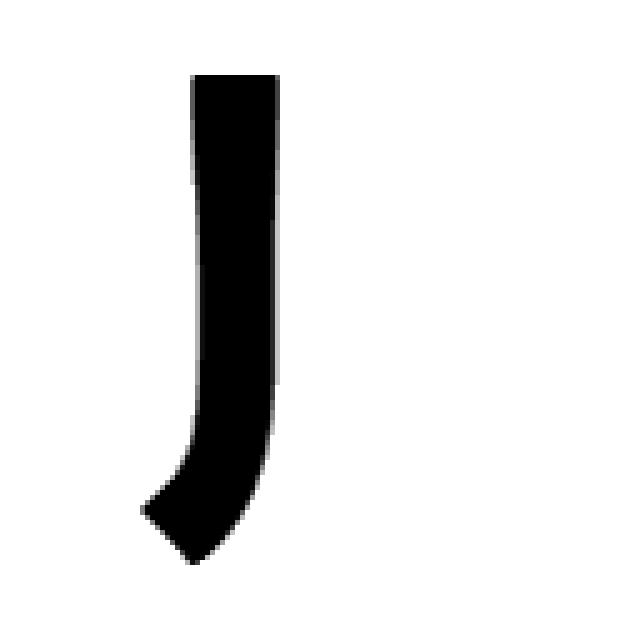J: (130, 65, 285, 565)
